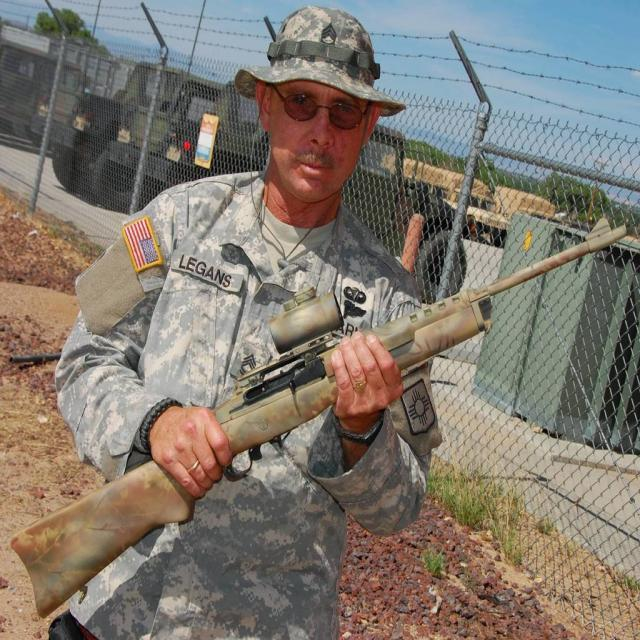weapon: (9, 217, 628, 618)
